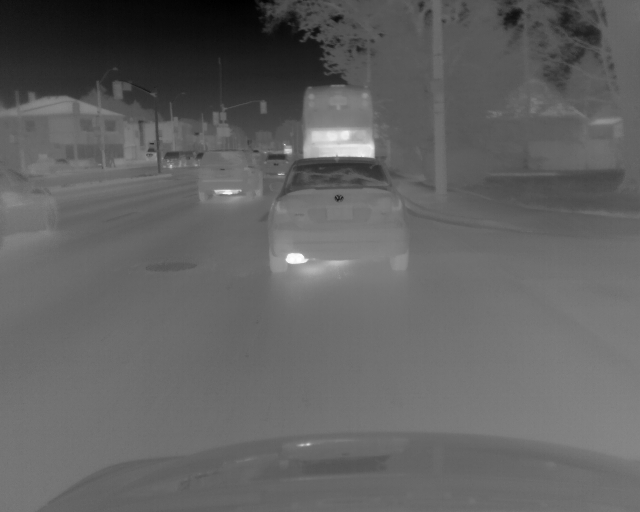car: (268, 156, 409, 276), (299, 81, 375, 161), (1, 162, 60, 241), (198, 148, 263, 204), (263, 152, 289, 175), (162, 151, 182, 168), (182, 151, 195, 170), (195, 151, 204, 166)
